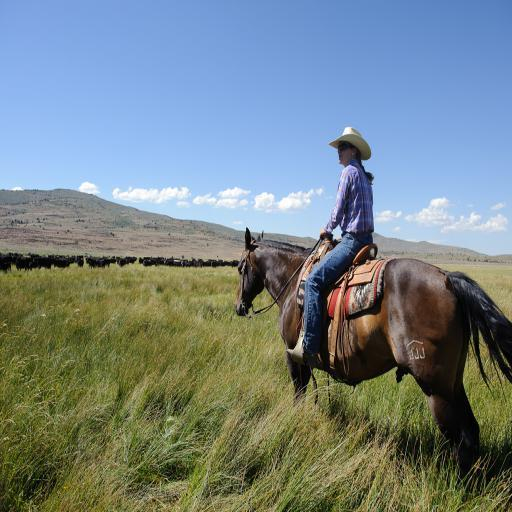horse: (232, 222, 512, 500)
